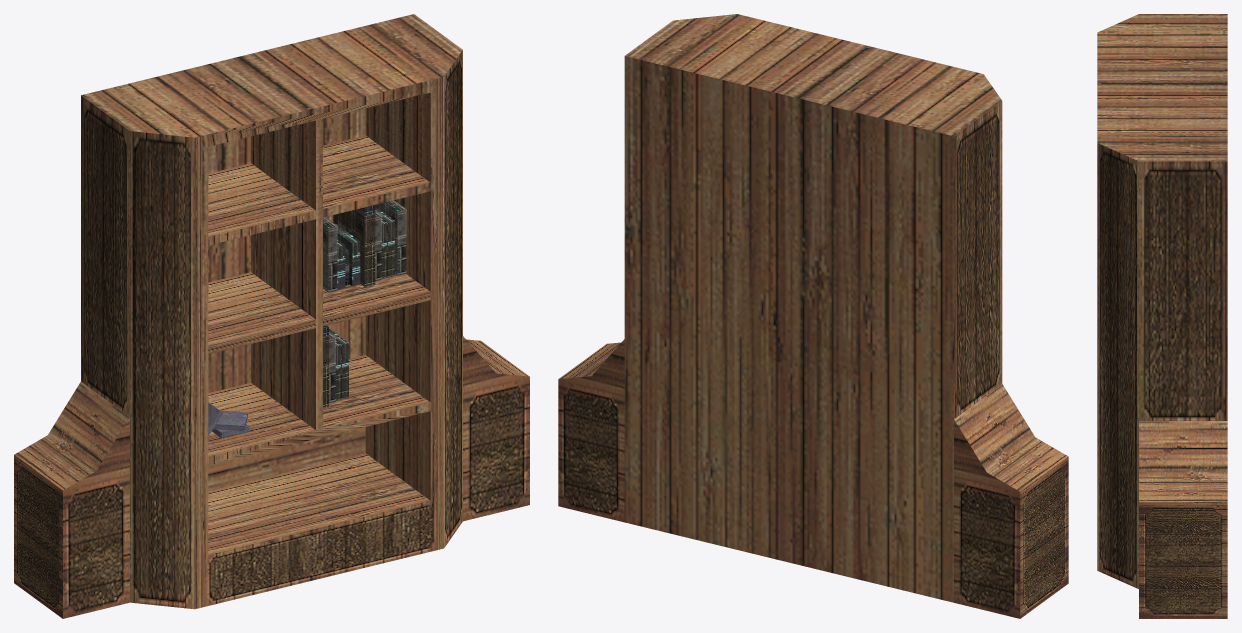
The model's file is frn_all_eleg_bookcase_s02_l0.fbx.
3 views of the same model, side by side, from view 1: azimuth 30°, elevation 25°; view 2: azimuth 150°, elevation 25°; view 3: azimuth 270°, elevation 25° (orthographic). The views are drawn at different scales.
Parts seen in each view (by area): view 1: mesh_node; view 2: mesh_node; view 3: mesh_node.
Part boxes in pixels (x1,y1,x2,y2): mesh_node: (14, 14, 529, 618); mesh_node: (558, 14, 1068, 618); mesh_node: (1097, 14, 1227, 618).
Bounding box in the file's own units: 1.87 × 1.8 × 0.4979.
